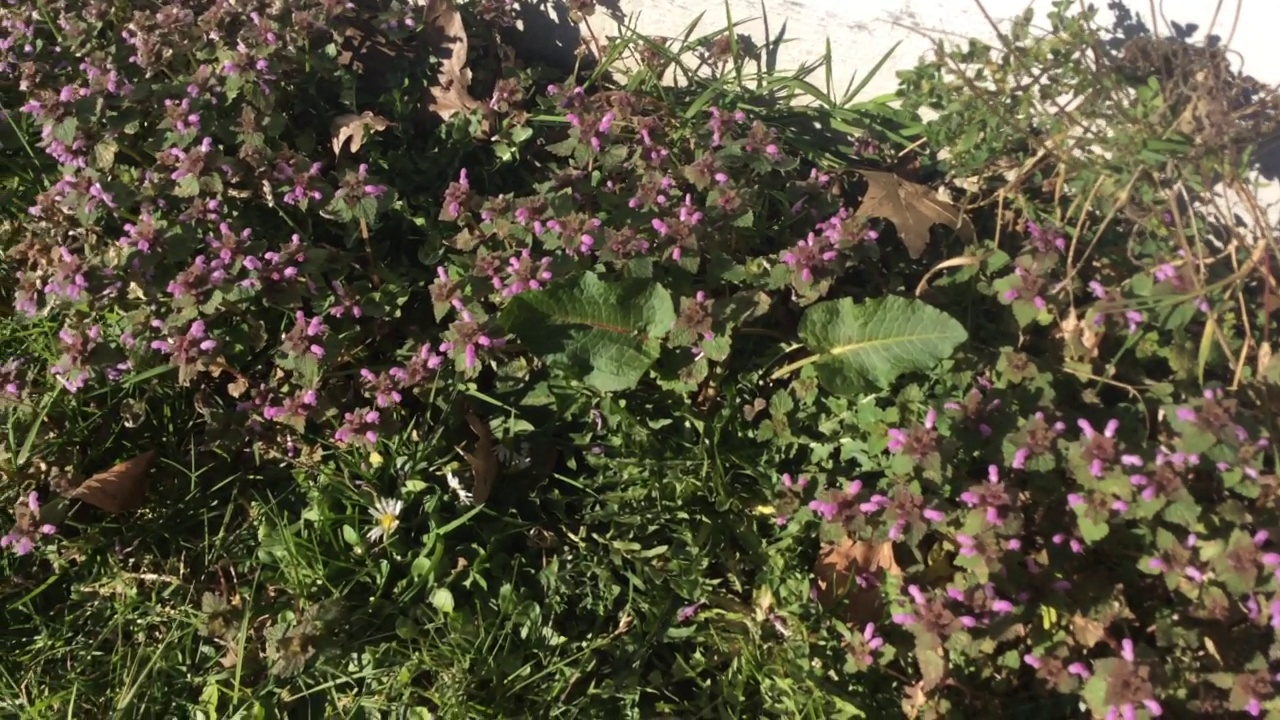rumex: (480, 272, 970, 394)
